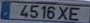1: (40, 5, 46, 19)
4: (19, 4, 29, 18)
5: (29, 4, 39, 19)
6: (46, 5, 56, 19)
E: (68, 7, 81, 21)
X: (57, 6, 69, 21)
